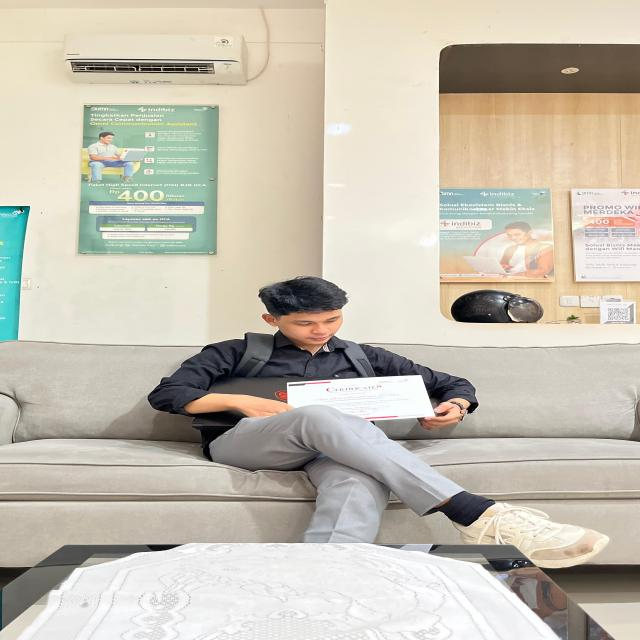nohelmet: (254, 269, 357, 340)
